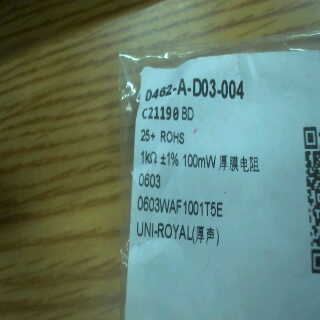1kR: (140, 149, 160, 167)
